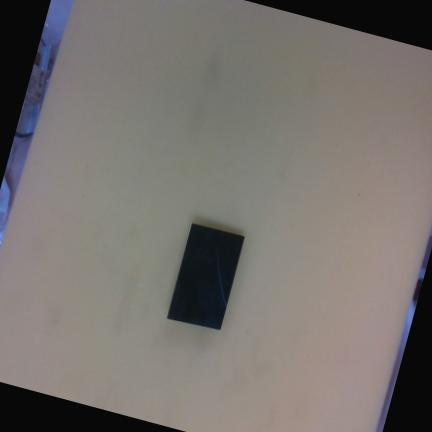tile: (165, 220, 245, 332)
